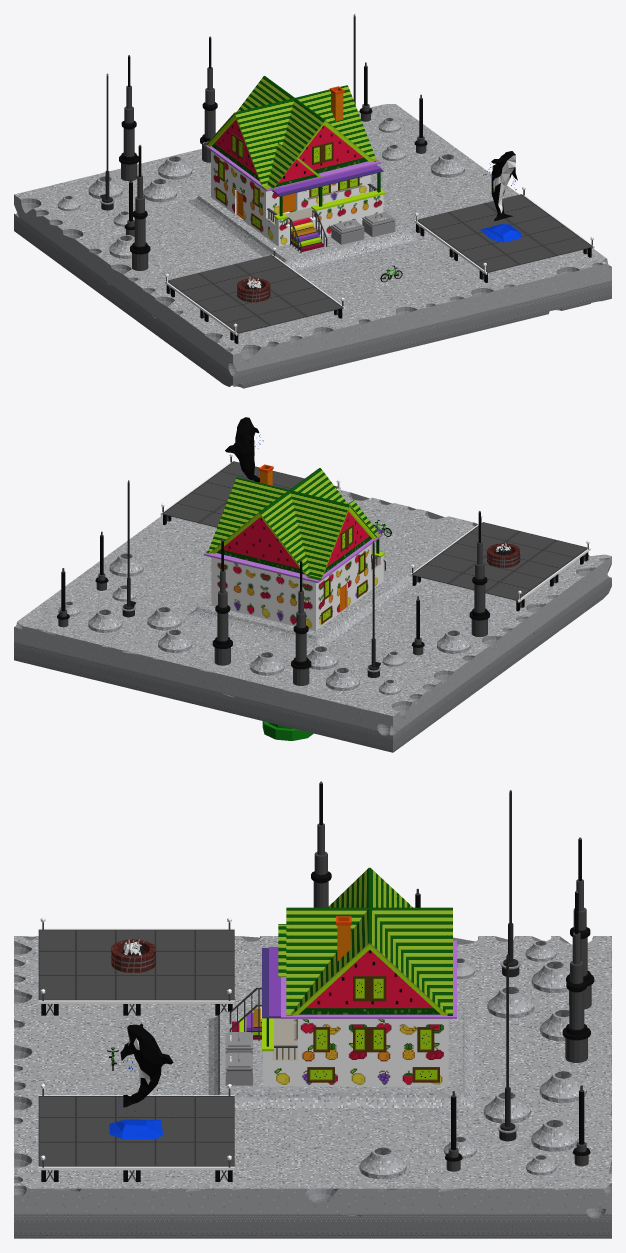
3 renders of one model, top to bottom at view 1: azimuth 30°, elevation 25°; view 2: azimuth 150°, elevation 25°; view 3: azimuth 270°, elevation 25°, orthographic. The views are drawn at different scales.
Parts seen in each view (by area): view 1: Cube.027, Cube.1063, Cube.026, Cube.025, Cube.028, ANIMAL_ORCA, Cylinder.021, Cylinder.020, Cylinder.017, OBJRANDOM_CAMPFIRE, Cube.029, Cube.030 (+5 smaller); view 2: Cube.027, Cube.1063, Cube.025, Cube.028, Cube.026, Cylinder.017, Cylinder.020, Cylinder.021, ANIMAL_ORCA, OBJRANDOM_CAMPFIRE, Cylinder.030, Cylinder.027 (+9 smaller); view 3: Cube.027, Cube.1063, Cube.026, Cube.025, Cube.028, ANIMAL_ORCA, Cylinder.017, OBJRANDOM_CAMPFIRE, Cylinder.020, Cylinder.021, Cylinder.033, Cylinder.031 (+10 smaller).
Part boxes in pixels (x1,y1,x2,y2): Cube.027: (14, 104, 611, 388); Cube.1063: (202, 76, 385, 252); Cube.026: (414, 186, 594, 282); Cube.025: (164, 247, 344, 343); Cube.028: (188, 192, 418, 269); ANIMAL_ORCA: (480, 151, 521, 242); Cylinder.021: (130, 145, 150, 270); Cylinder.020: (119, 55, 138, 181); Cylinder.017: (200, 36, 217, 162); OBJRANDOM_CAMPFIRE: (237, 276, 270, 302); Cube.029: (331, 219, 364, 244); Cube.030: (362, 212, 395, 237); Cube.027: (14, 490, 611, 752); Cube.1063: (203, 464, 385, 631); Cube.025: (410, 514, 590, 611); Cube.028: (187, 566, 412, 647); Cube.026: (160, 453, 340, 527); Cylinder.017: (212, 539, 232, 665); Cylinder.020: (291, 559, 311, 685); Cylinder.021: (469, 511, 489, 636); ANIMAL_ORCA: (225, 417, 263, 482); OBJRANDOM_CAMPFIRE: (487, 543, 520, 567); Cylinder.030: (147, 606, 181, 630); Cylinder.027: (250, 651, 284, 675); Cube.027: (14, 936, 611, 1238); Cube.1063: (229, 867, 456, 1086); Cube.026: (38, 1084, 234, 1181); Cube.025: (38, 917, 234, 1015); Cube.028: (208, 1011, 474, 1107); ANIMAL_ORCA: (109, 1023, 173, 1138); Cylinder.017: (562, 890, 590, 1062); OBJRANDOM_CAMPFIRE: (111, 937, 155, 972); Cylinder.020: (566, 837, 594, 1009); Cylinder.021: (311, 781, 331, 907); Cylinder.033: (359, 1146, 406, 1179); Cylinder.031: (531, 1119, 578, 1151).
Bounding box in the file's own units: 4000 × 2383 × 4000.
31 materials, 6 textured.
